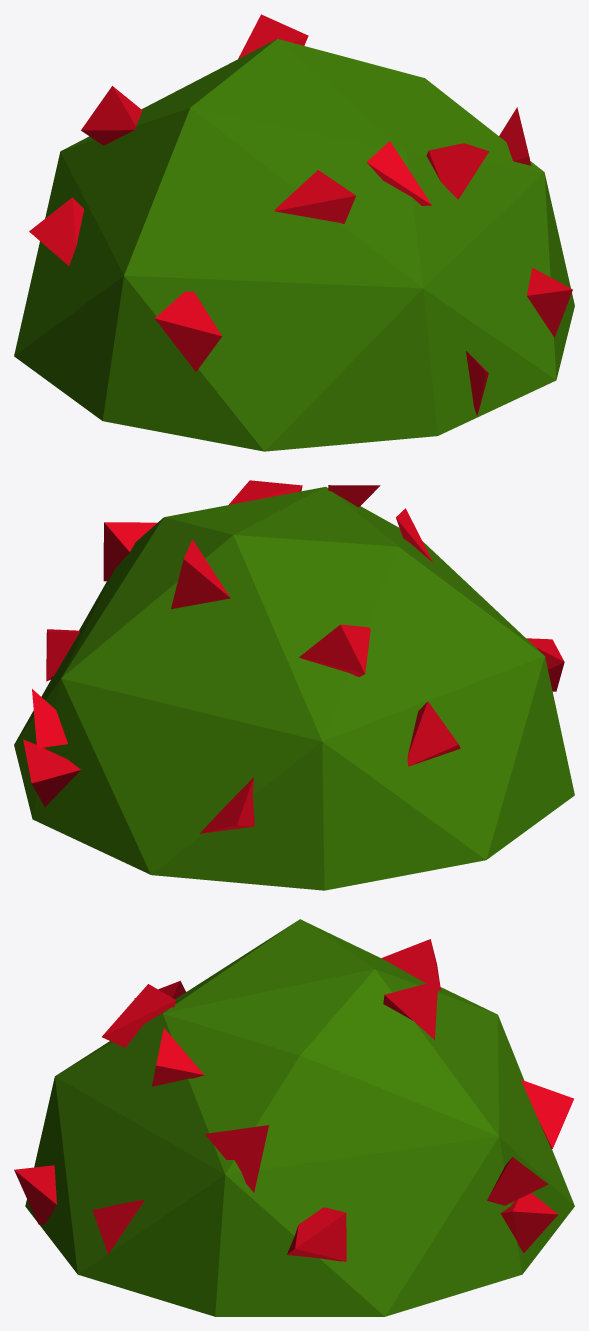
Rendered from Bush.fbx.
3 views of the same model, one above another, from view 1: azimuth 30°, elevation 25°; view 2: azimuth 150°, elevation 25°; view 3: azimuth 270°, elevation 25° (orthographic). The views are drawn at different scales.
Visible parts, largest first — view 1: Icosphere, Icosphere.003; view 2: Icosphere, Icosphere.003; view 3: Icosphere, Icosphere.003.
Part boxes in pixels (left/top/right/bottom): Icosphere: left=14, top=39, right=574, bottom=451; Icosphere.003: left=29, top=14, right=572, bottom=415; Icosphere: left=14, top=486, right=574, bottom=890; Icosphere.003: left=23, top=480, right=564, bottom=833; Icosphere: left=25, top=919, right=574, bottom=1316; Icosphere.003: left=14, top=939, right=573, bottom=1261.
Size of the model in its own units: 769 by 390 by 801.
